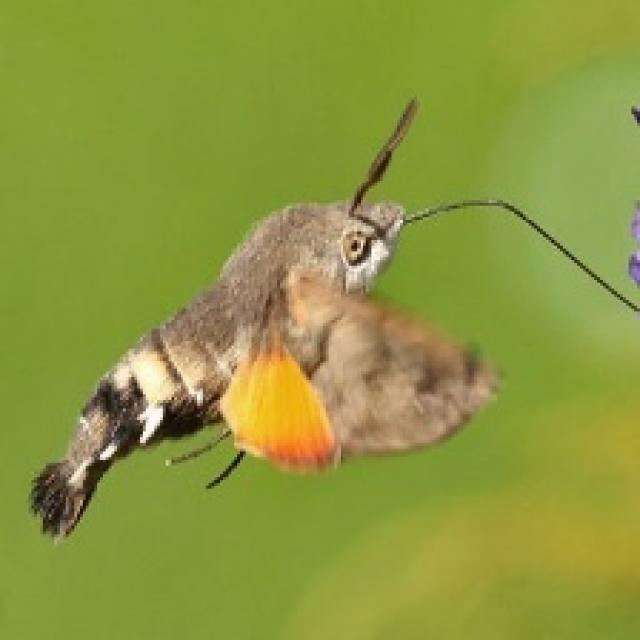butterfly: (26, 94, 637, 543)
